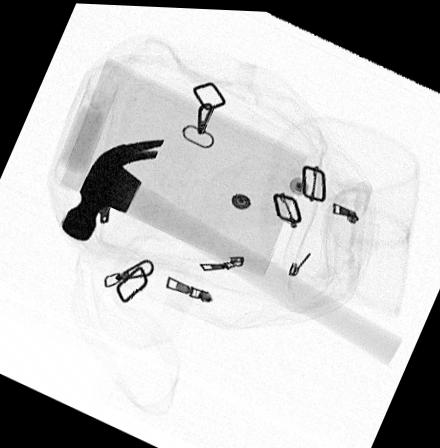Hammer: (62, 137, 401, 361)
